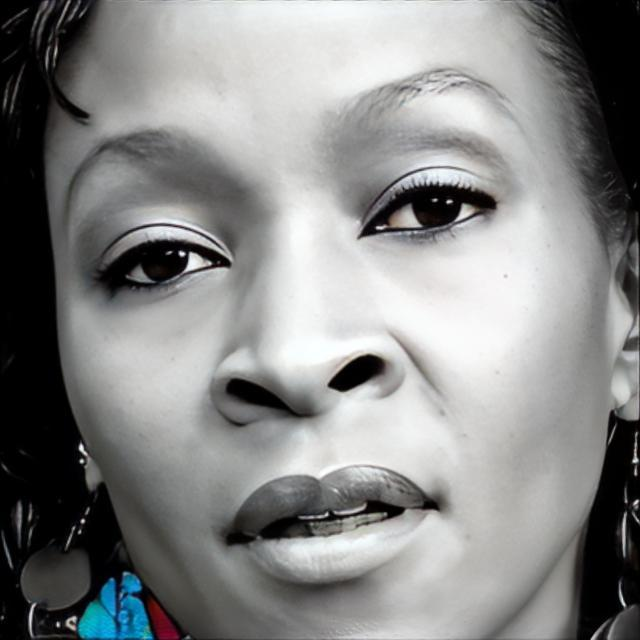neutral: (49, 0, 608, 639)
